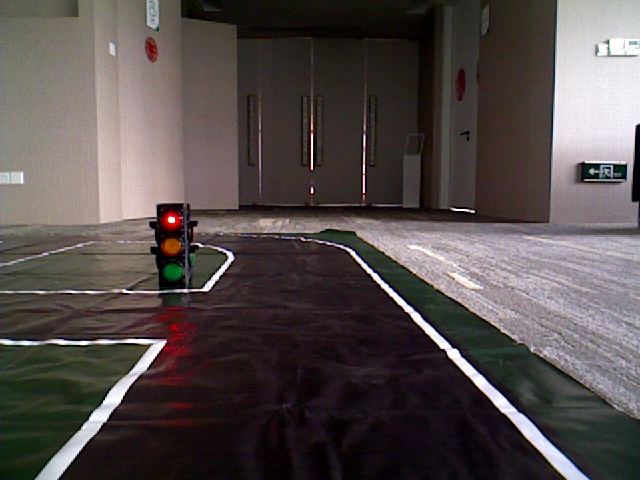red: (160, 205, 184, 284)
